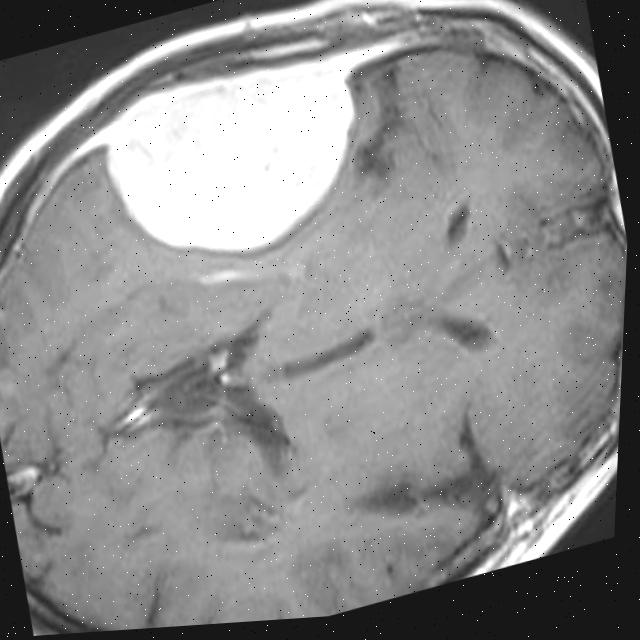Meningioma: (82, 23, 443, 296)
